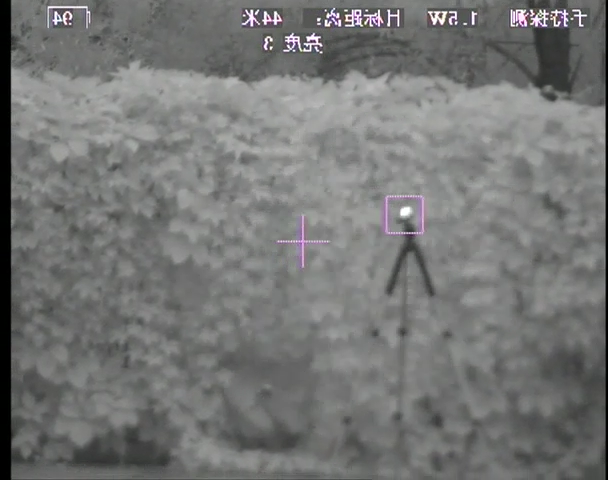my: (398, 205, 412, 218)
